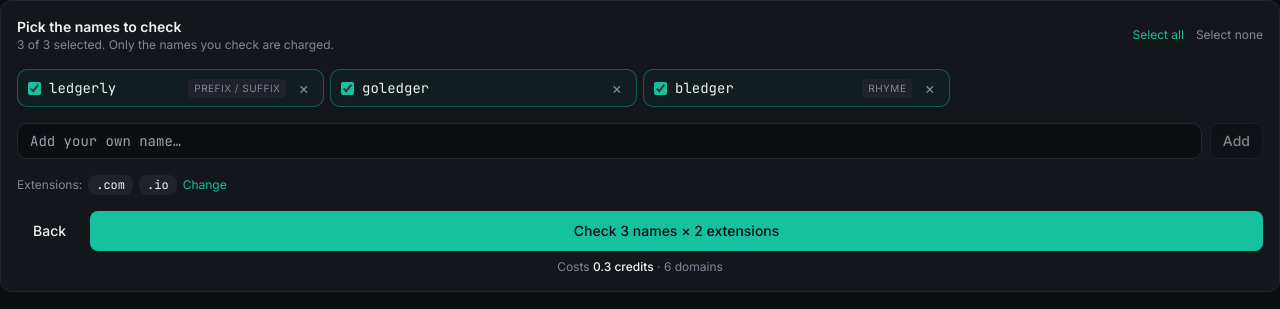
it: NameReview › disables checking when nothing is selected
The width and height of the screenshot is (1280, 309).
Step 1. Click the button "Select none" → (1229, 35), box top-left (1196, 27), bottom-right (1263, 43)
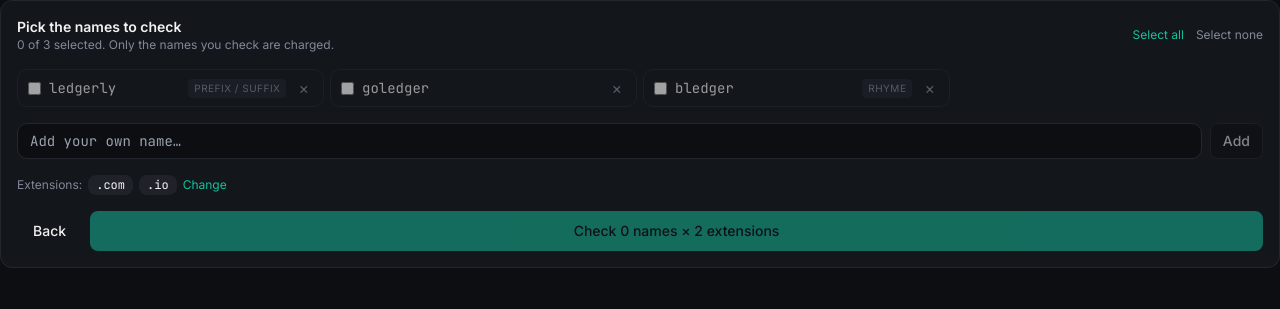
Result: the button "Check 0 names × 2 extensions" is disabled at top-left (90, 211), bottom-right (1263, 251)
